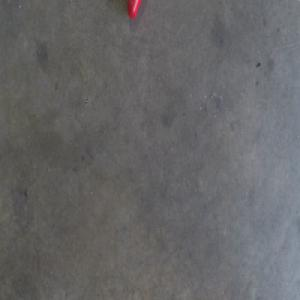Pliers: (126, 0, 143, 19)
